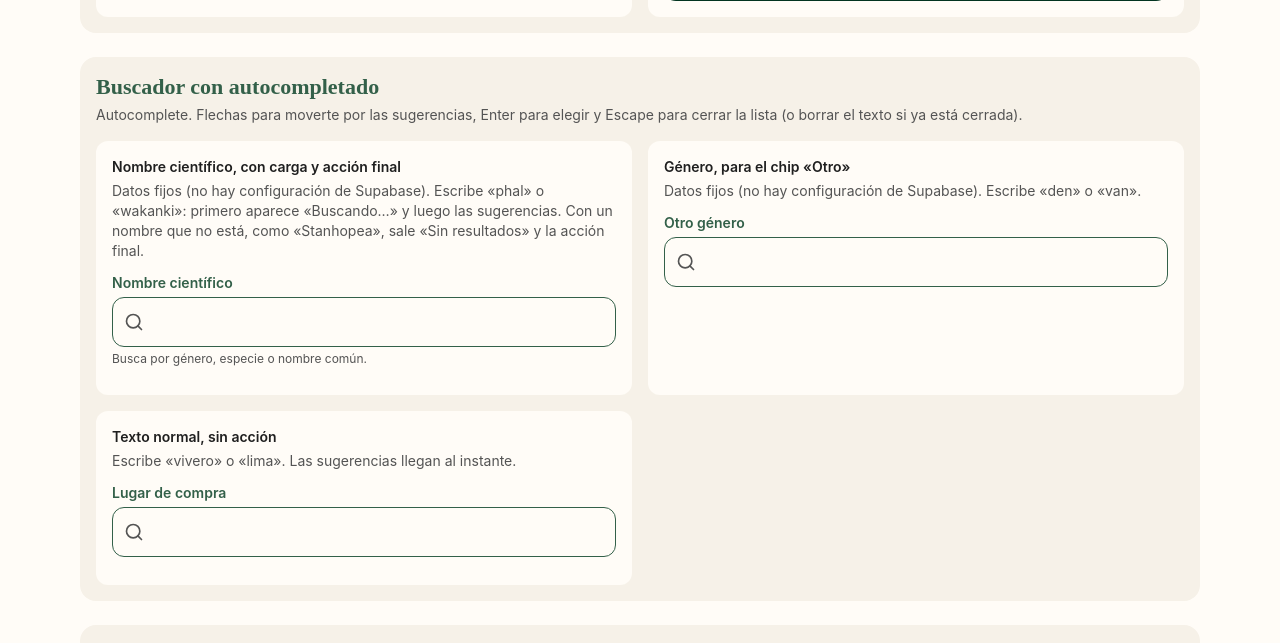
it: ShowcasePage › el buscador científico muestra la carga y luego las sugerencias
Later steps or results of the test are not shown.
(page scrolled)
In the dropdown labelled "Nombre científico": (364, 322) [112, 297, 616, 347], type "phal"
Wait 1000 ms
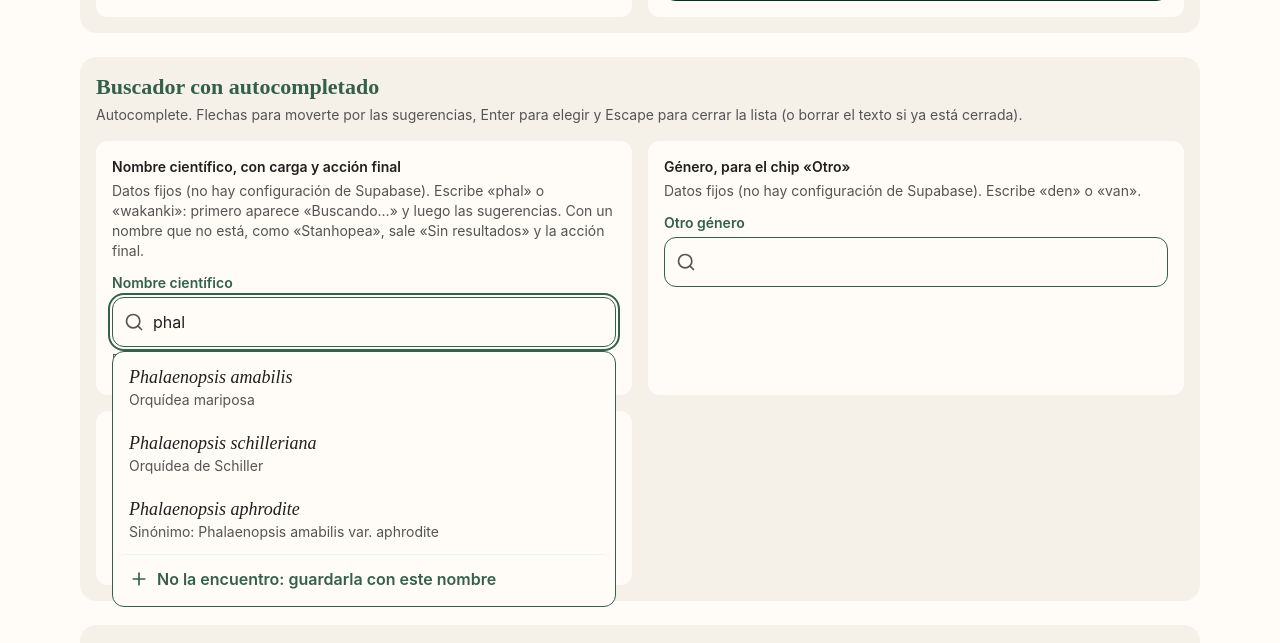
Expected: the option named "Phalaenopsis amabilis," is shown, [128, 367, 292, 408]
Expected: the option "No la encuentro: guardarla con este nombre" is shown, [117, 554, 611, 602]
Press Arrowdown Enter
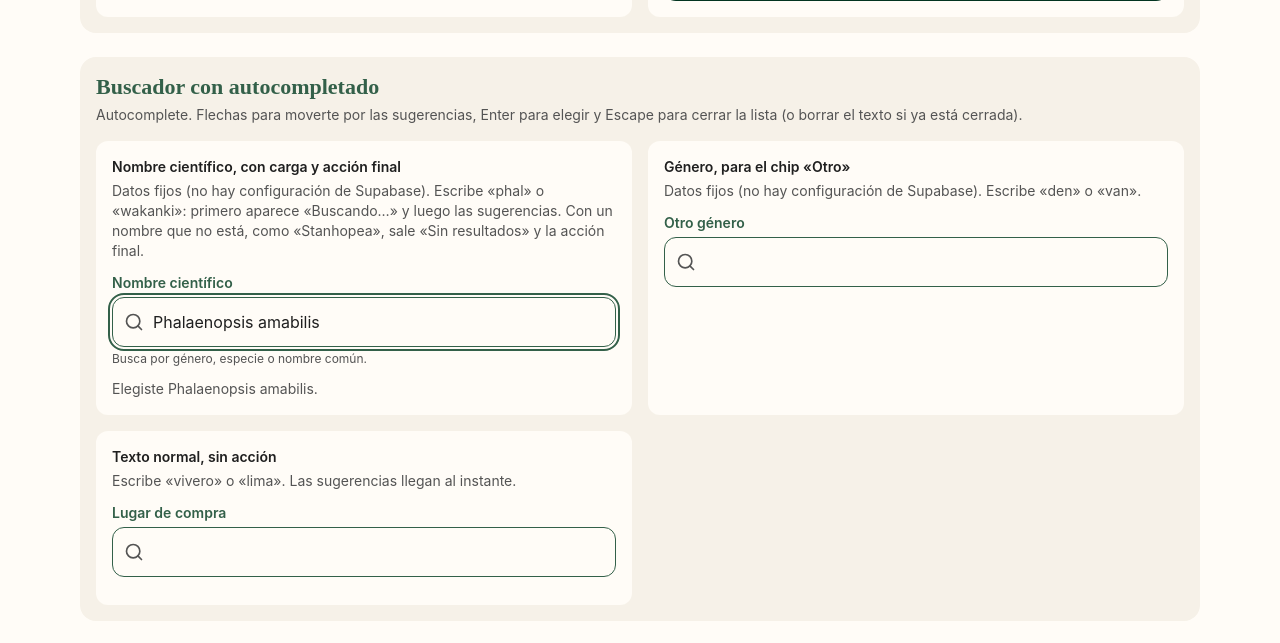
Expected: the dropdown labelled "Nombre científico" holds "Phalaenopsis amabilis", [112, 297, 616, 347]
Expected: the text "Elegiste Phalaenopsis amabilis." is shown, [112, 380, 318, 397]
